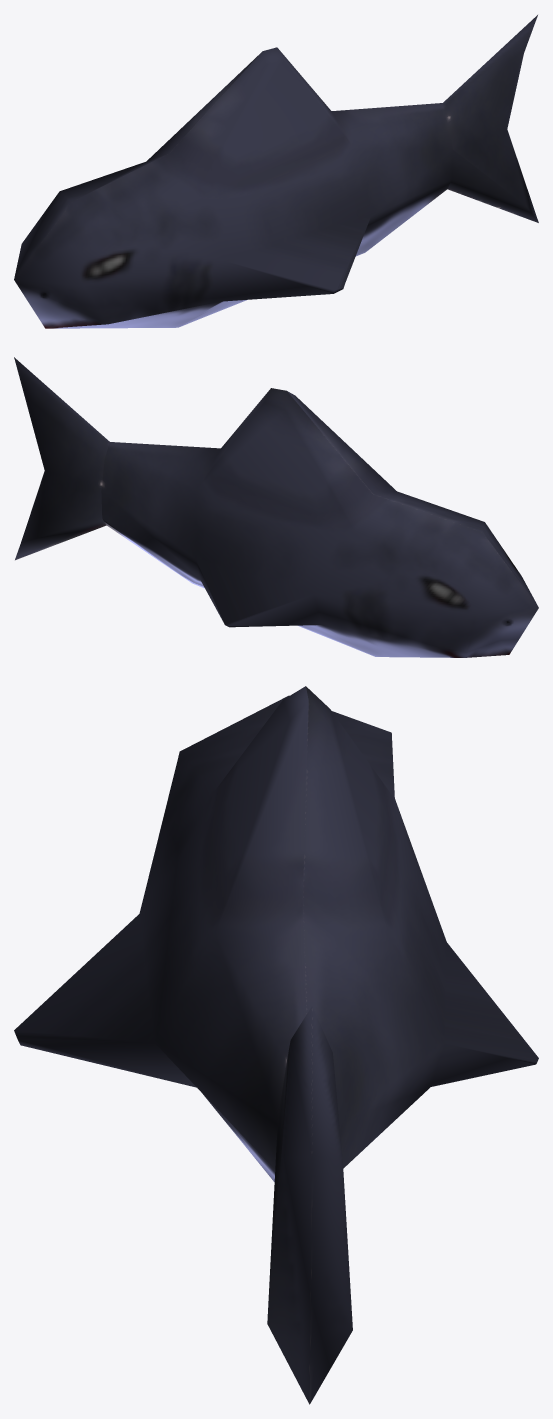
File: fish_shark.fbx
3 renders of one model, top to bottom at view 1: azimuth 30°, elevation 25°; view 2: azimuth 150°, elevation 25°; view 3: azimuth 270°, elevation 25°, orthographic. The views are drawn at different scales.
Parts seen in each view (by area): view 1: shark; view 2: shark; view 3: shark.
Boxes of the visible parts, x1,y1,x2,y2 form: shark: [14, 15, 538, 328]; shark: [14, 357, 538, 657]; shark: [14, 686, 538, 1404].
Size of the model in its own units: 173 by 79.05 by 77.71.
